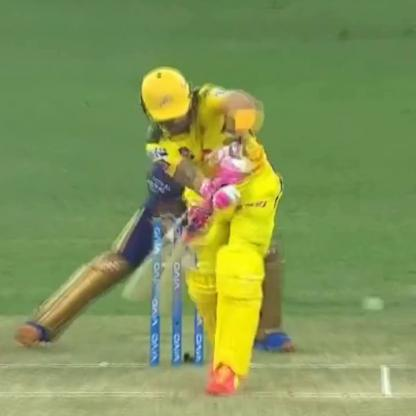ball: (353, 293, 395, 317)
bat: (122, 176, 246, 286)
pitch: (1, 338, 416, 416)
